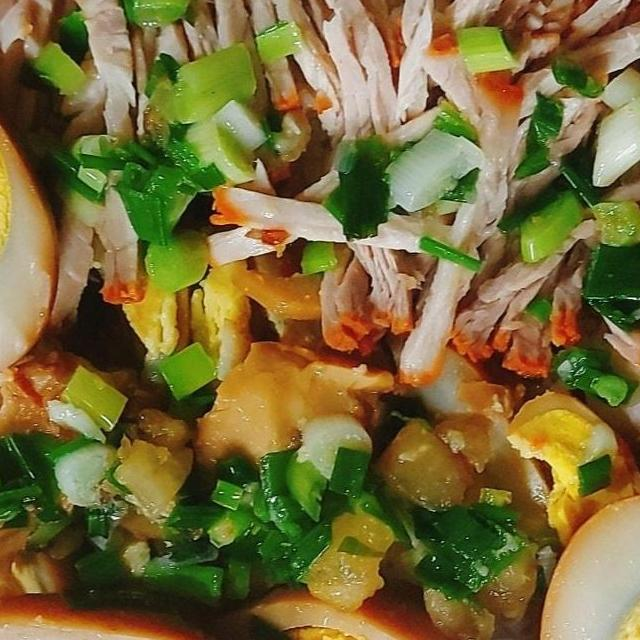suon: (0, 0, 640, 392)
